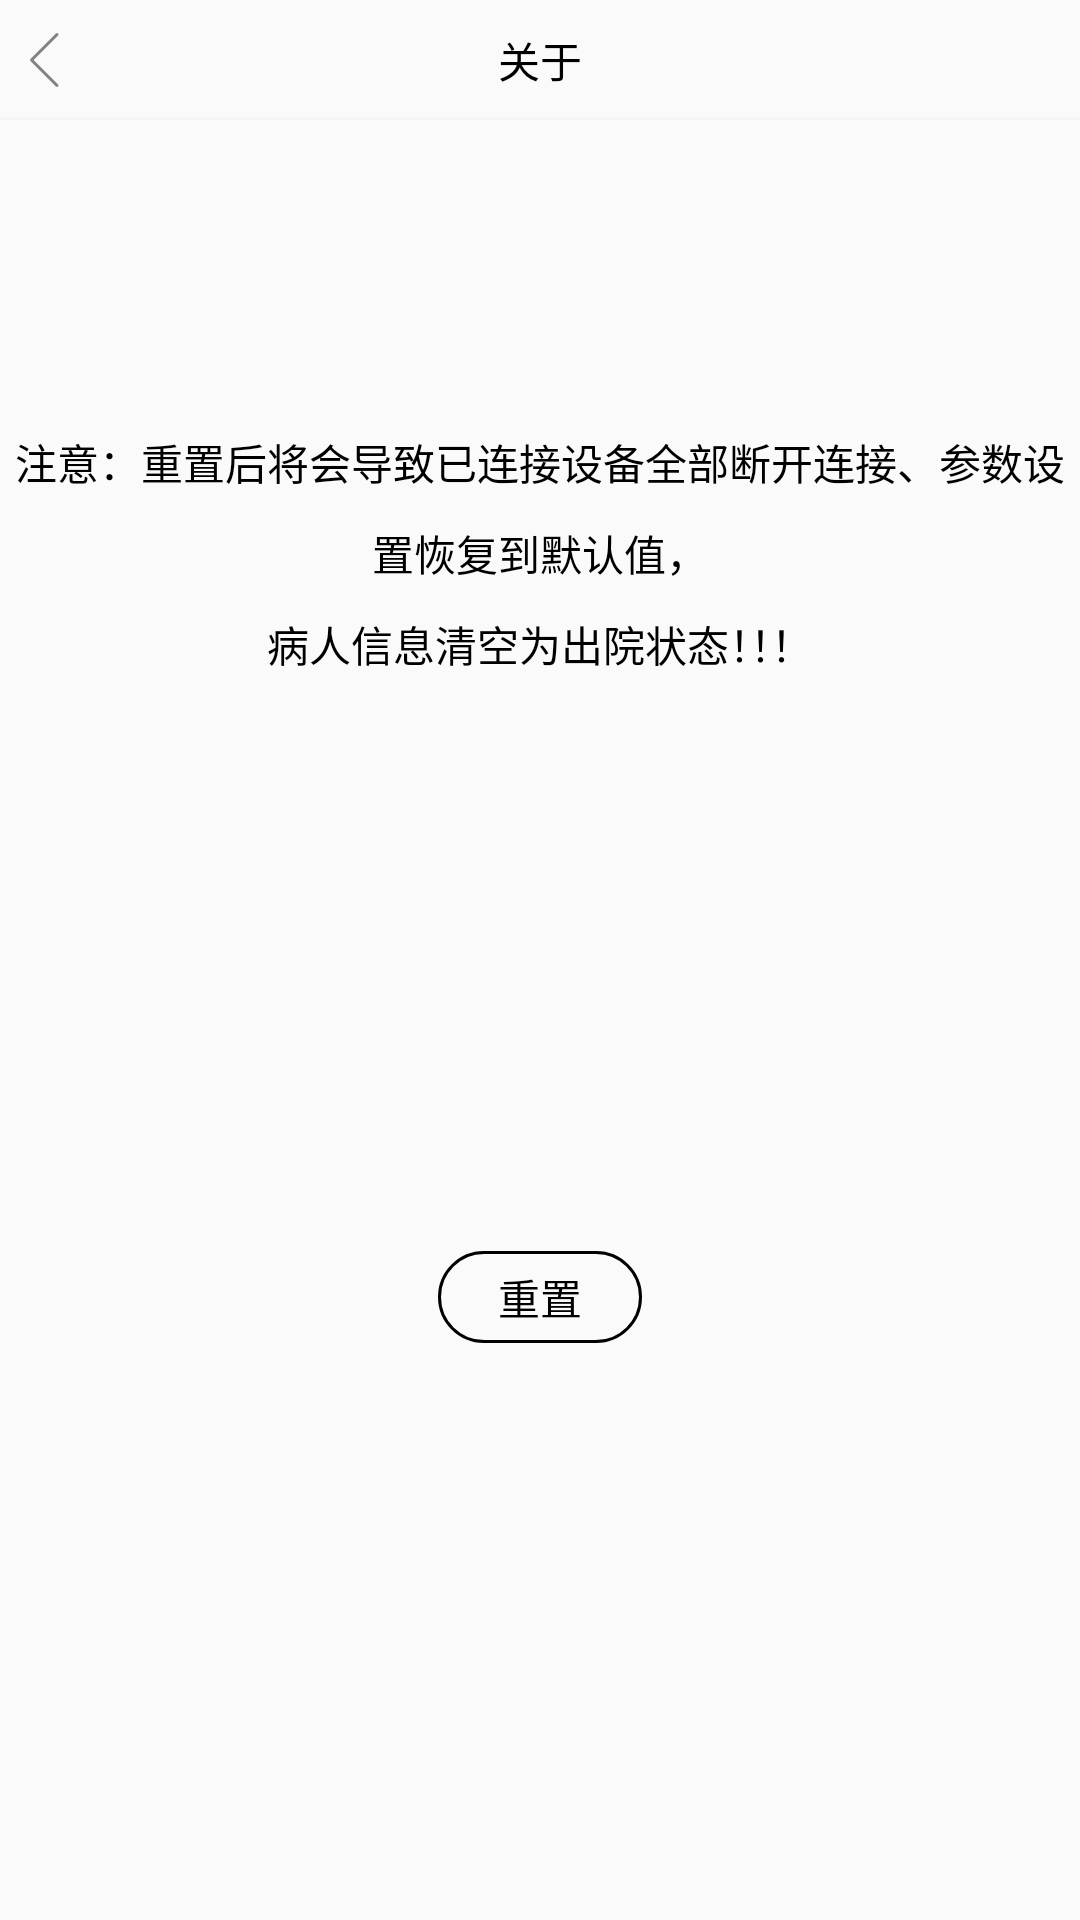

Named icons in this screenshot (1080 x 1920) and their centers, [x,y]:
back: [44,60]
